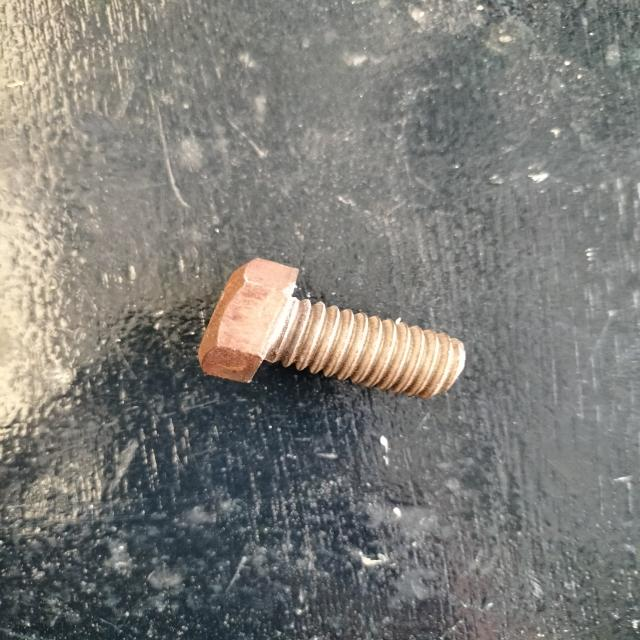bolt: (198, 258, 466, 400)
